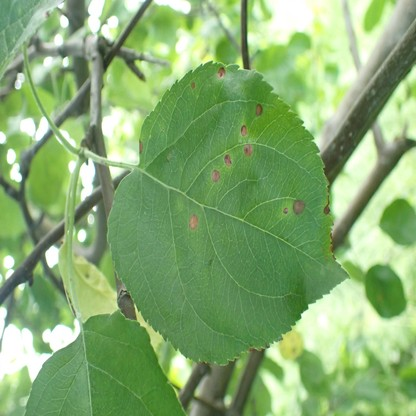frogeye_leaf_spot: (293, 200, 305, 215), (189, 216, 198, 230), (212, 170, 221, 183), (244, 143, 252, 157), (217, 67, 226, 79), (224, 155, 232, 166), (256, 104, 262, 117), (241, 125, 247, 137), (139, 138, 143, 154), (324, 206, 330, 215), (191, 81, 196, 90), (283, 207, 288, 214)
